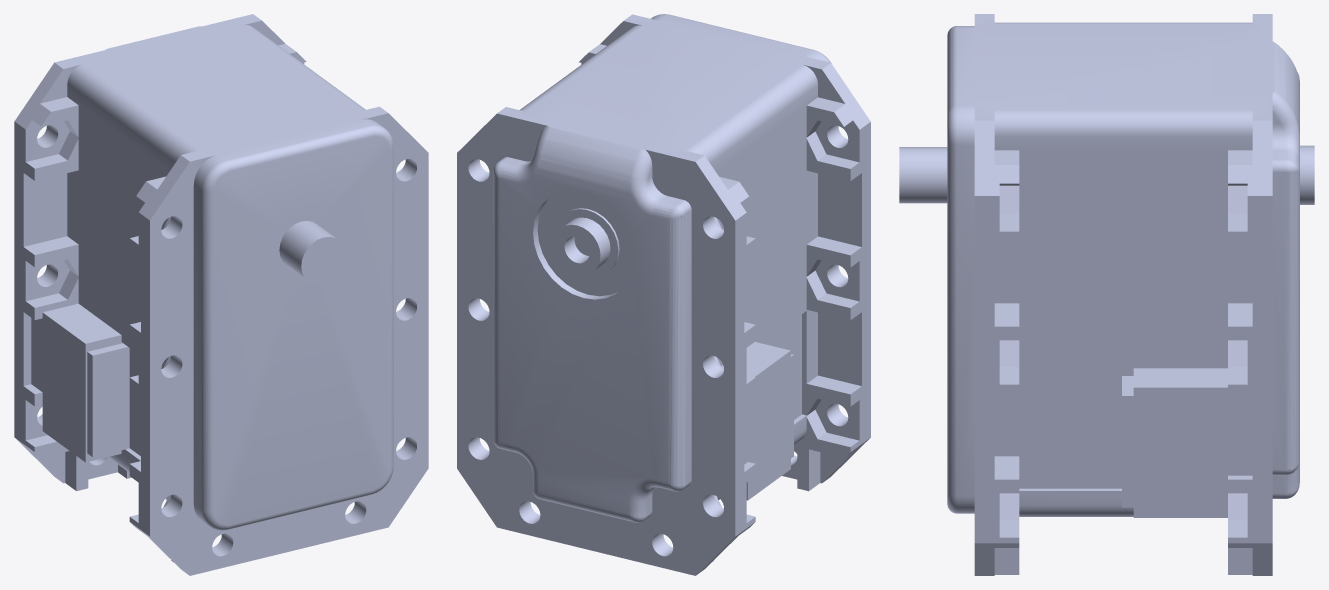
File: c_3_robot_export_clean__RX_28_1.dae
3 views of the same model, side by side, from view 1: azimuth 30°, elevation 25°; view 2: azimuth 150°, elevation 25°; view 3: azimuth 270°, elevation 25° (orthographic). The views are drawn at different scales.
Parts seen in each view (by area): view 1: node0; view 2: node0; view 3: node0.
Part boxes in pixels (bbox=[...]): node0: bbox=[14, 14, 428, 575]; node0: bbox=[457, 14, 870, 575]; node0: bbox=[899, 14, 1314, 575].
Bounding box in the file's own units: 0.0356 × 0.0506 × 0.0419.
